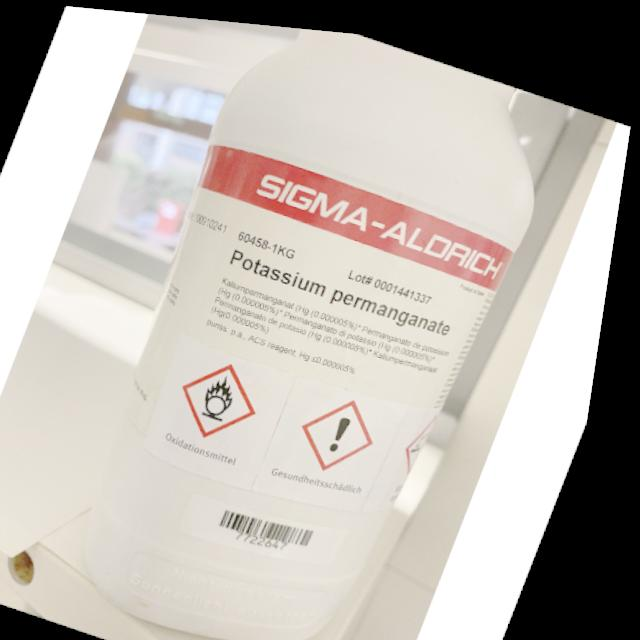health-ozone layer hazard: (340, 407, 363, 446)
oxidising: (208, 365, 252, 418)
